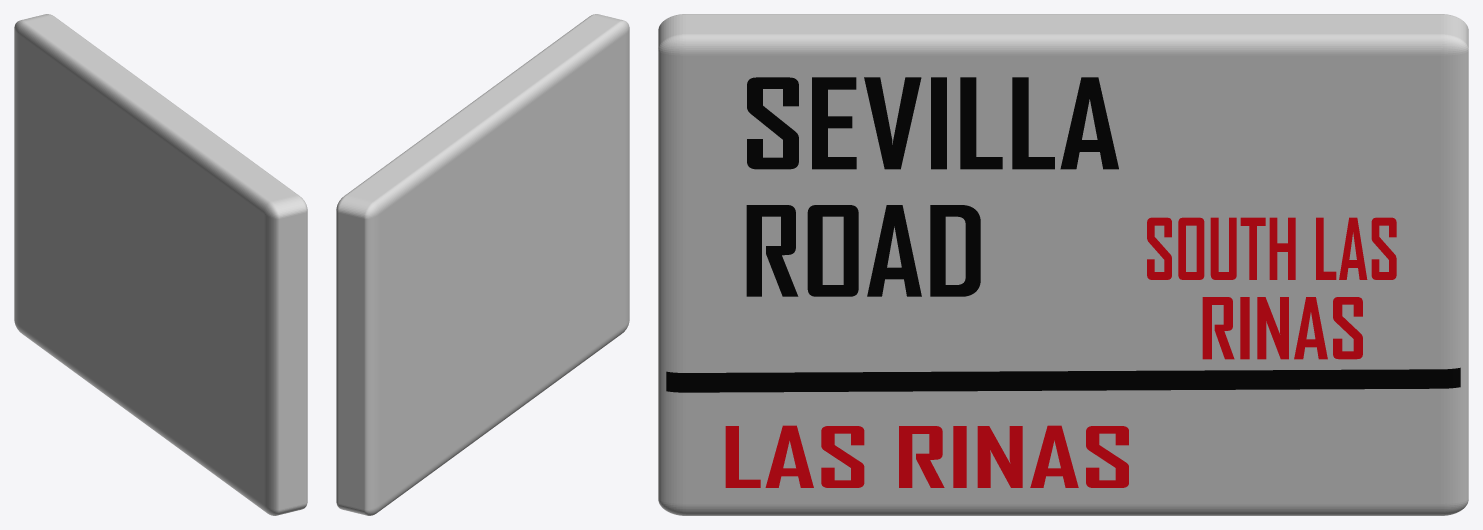
The model's file is uk_styled_street_sign_34.fbx.
3 views of the same model, side by side, from view 1: azimuth 30°, elevation 25°; view 2: azimuth 150°, elevation 25°; view 3: azimuth 270°, elevation 25° (orthographic). The views are drawn at different scales.
Parts seen in each view (by area): view 1: Cube; view 2: Cube; view 3: Cube, Text, Text.002, Text.001, Text.003, Text.004.
Boxes of the visible parts, x1=… form: Cube: x1=14, y1=14, x2=307, y2=515; Cube: x1=336, y1=14, x2=629, y2=515; Cube: x1=658, y1=14, x2=1468, y2=515; Text: x1=747, y1=77, x2=1118, y2=169; Text.002: x1=725, y1=425, x2=1128, y2=487; Text.001: x1=746, y1=205, x2=980, y2=296; Text.003: x1=1147, y1=217, x2=1396, y2=279; Text.004: x1=1202, y1=297, x2=1362, y2=359.
Bounding box in the file's own units: 1.63 × 11.91 × 18.18.
